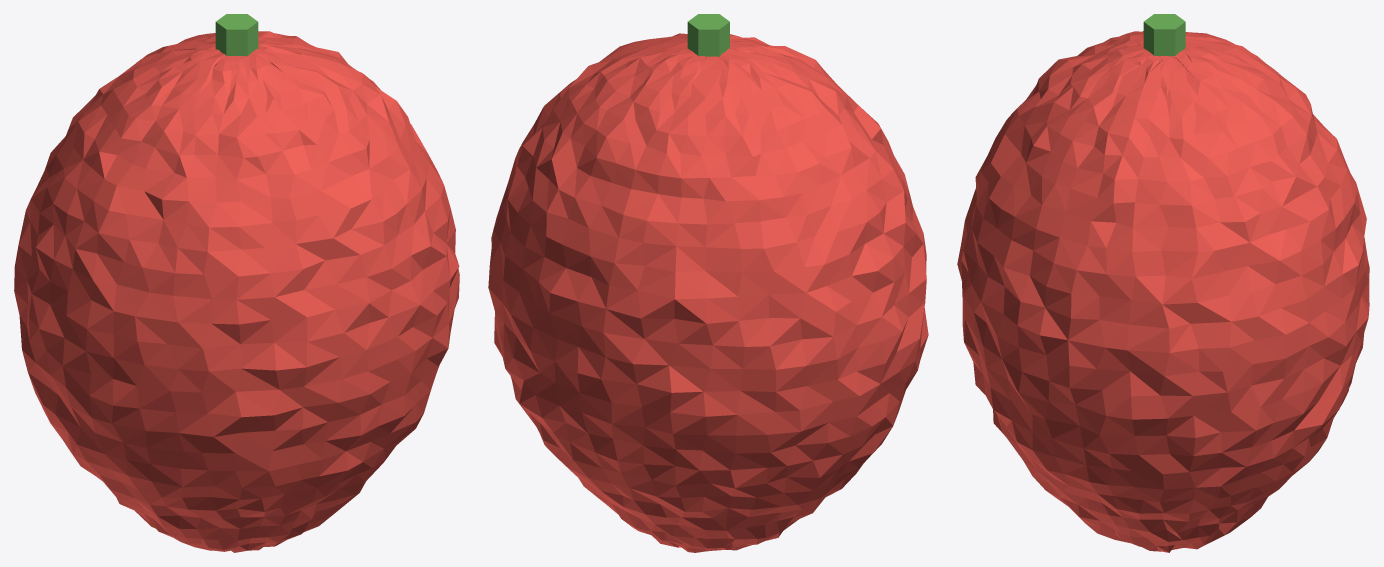
File: strawberry.glb
The picture shows the model from 3 angles, left to right: view 1: azimuth 30°, elevation 25°; view 2: azimuth 150°, elevation 25°; view 3: azimuth 270°, elevation 25°; orthographic projection.
Parts seen in each view (by area): view 1: strawberry; view 2: strawberry; view 3: strawberry.
Boxes of the visible parts, x1=… form: strawberry: x1=14, y1=14, x2=459, y2=552; strawberry: x1=488, y1=14, x2=928, y2=552; strawberry: x1=957, y1=14, x2=1369, y2=552.
Size of the model in its own units: 2.99 by 3.8 by 2.74.
